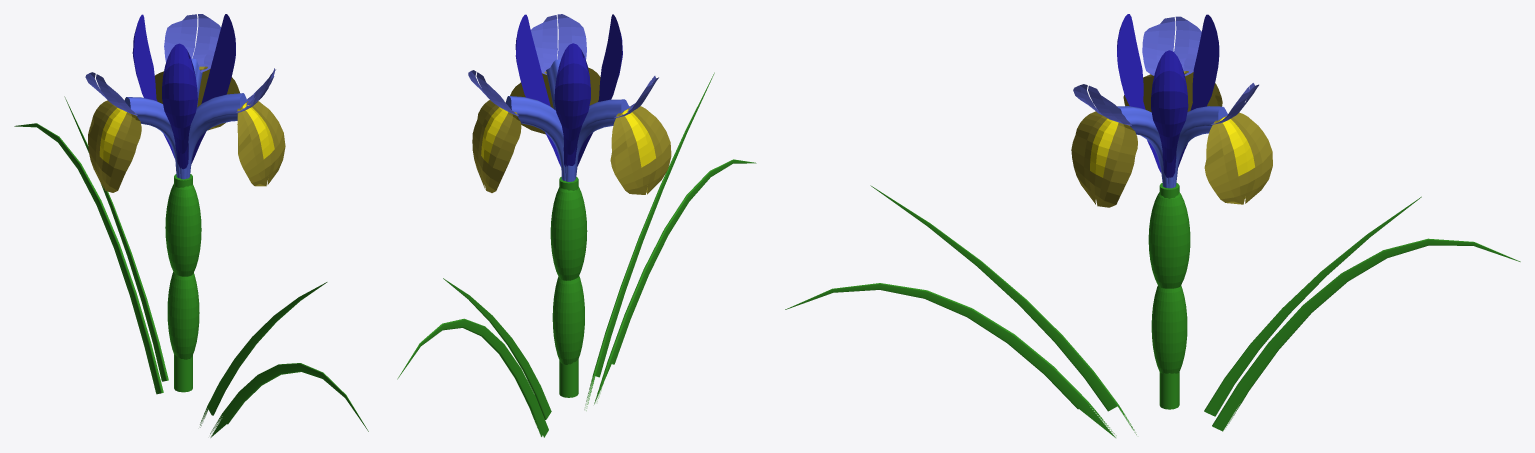
The picture shows the model from 3 angles, left to right: view 1: azimuth 30°, elevation 25°; view 2: azimuth 150°, elevation 25°; view 3: azimuth 270°, elevation 25°; orthographic projection. The views are drawn at different scales.
Visible parts, largest first — view 1: 8bf8a71b; view 2: 8bf8a71b; view 3: 8bf8a71b.
Part boxes in pixels (x1,y1,x2,y2): 8bf8a71b: (14,14,368,437); 8bf8a71b: (397,14,756,437); 8bf8a71b: (785,14,1520,437).
Size of the model in its own units: 0.0489 by 0.1126 by 0.1822.
